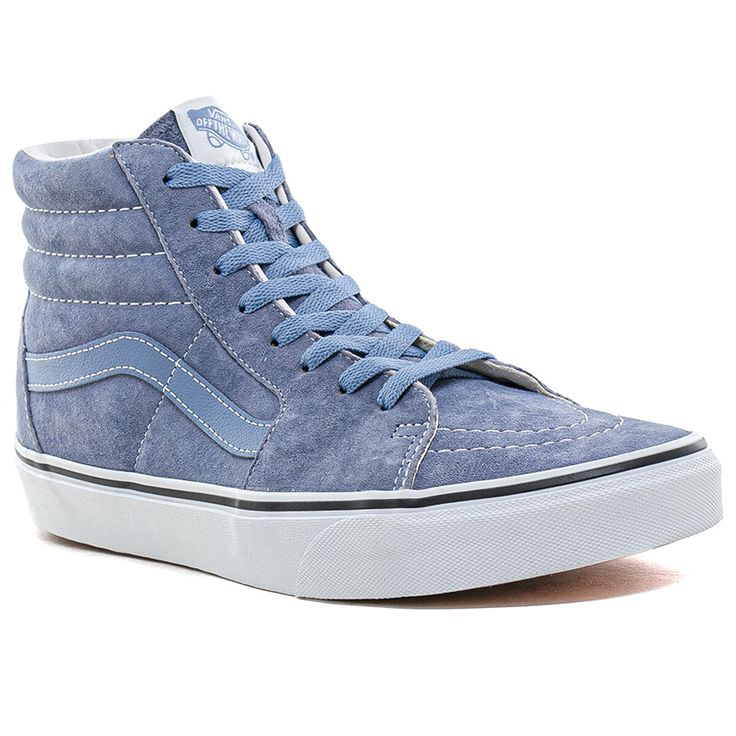gamuza: (11, 96, 697, 491)
